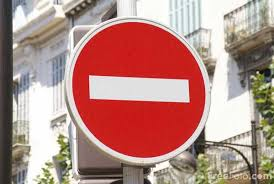No_entry: (64, 16, 212, 165)
